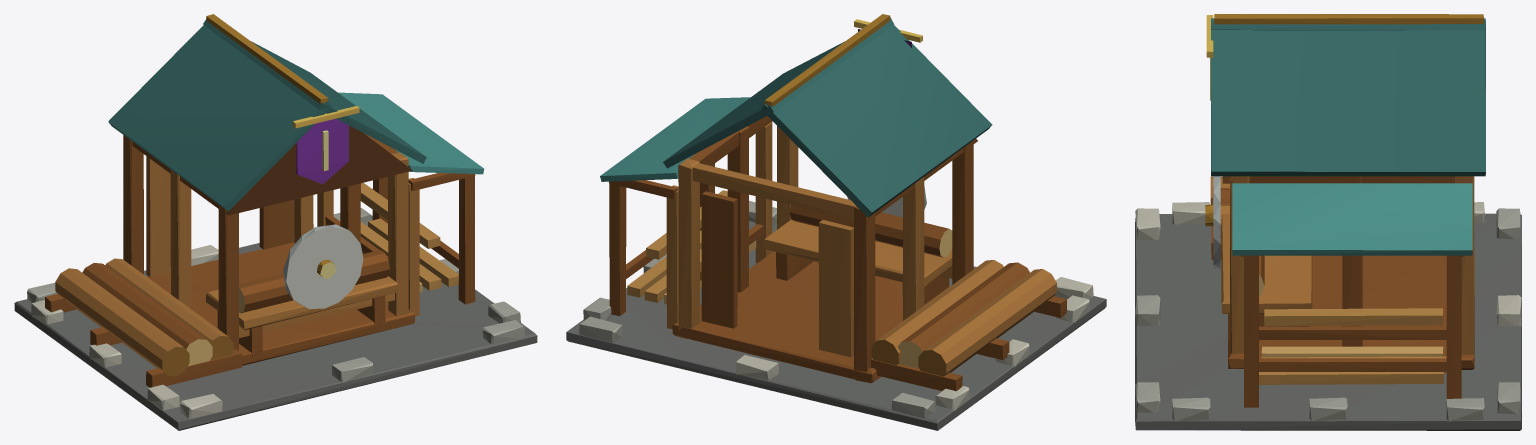
3 renders of one model, left to right at view 1: azimuth 30°, elevation 25°; view 2: azimuth 150°, elevation 25°; view 3: azimuth 270°, elevation 25°, orthographic. The views are drawn at different scales.
Visible parts, largest first — view 1: WK_LumberCamp_LOD2_Compact; view 2: WK_LumberCamp_LOD2_Compact; view 3: WK_LumberCamp_LOD2_Compact.
Boxes of the visible parts, left/top/right/bottom form: WK_LumberCamp_LOD2_Compact: left=14, top=14, right=537, bottom=430; WK_LumberCamp_LOD2_Compact: left=566, top=14, right=1106, bottom=430; WK_LumberCamp_LOD2_Compact: left=1135, top=14, right=1521, bottom=430.
Bounding box in the file's own units: 8.56 × 6.03 × 6.77.
